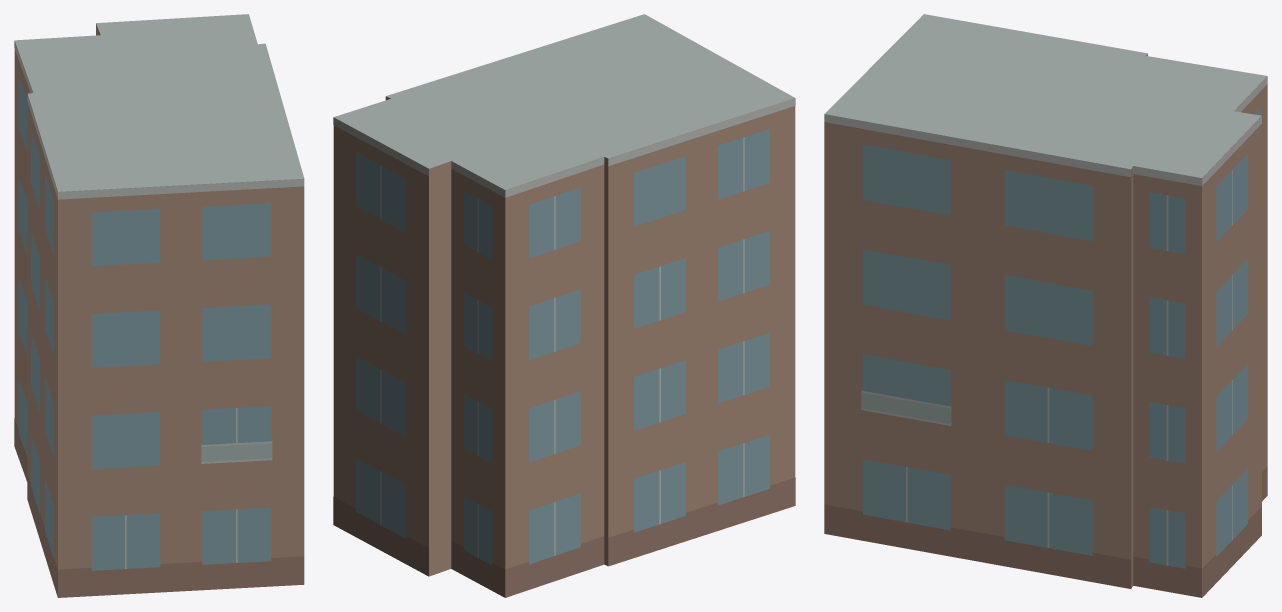
Rendered from survey-upis-32562487.glb.
The picture shows the model from 3 angles, left to right: view 1: azimuth 30°, elevation 25°; view 2: azimuth 150°, elevation 25°; view 3: azimuth 270°, elevation 25°; orthographic projection. The views are drawn at different scales.
Parts seen in each view (by area): view 1: survey-upis-32562487.tmp; view 2: survey-upis-32562487.tmp; view 3: survey-upis-32562487.tmp.
Boxes of the visible parts, box(x1,y1,x2,y2) form: survey-upis-32562487.tmp: box(14, 14, 304, 597); survey-upis-32562487.tmp: box(333, 14, 795, 597); survey-upis-32562487.tmp: box(824, 14, 1267, 597).
Size of the model in its own units: 10.79 by 12.85 by 12.31.
